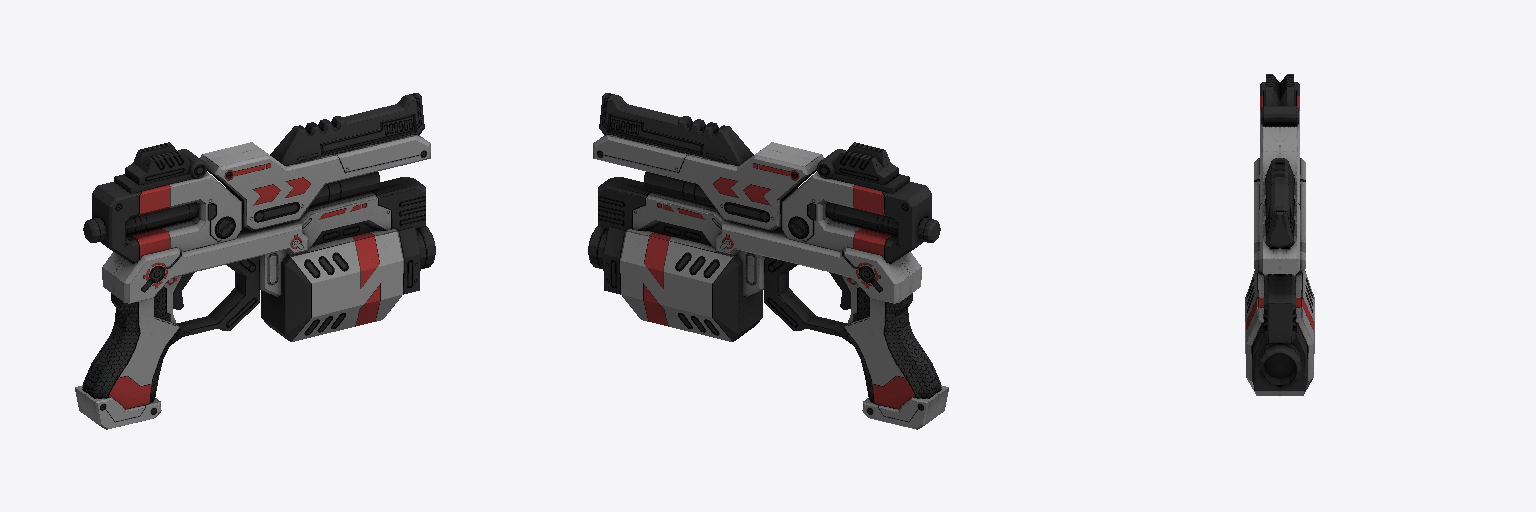
3 views of the same model, side by side, from view 1: azimuth 30°, elevation 25°; view 2: azimuth 150°, elevation 25°; view 3: azimuth 270°, elevation 25° (orthographic).
Parts seen in each view (by area): view 1: BaseMesh; view 2: BaseMesh; view 3: BaseMesh.
Boxes of the visible parts, <box> form: BaseMesh: <box>75,93,435,429</box>; BaseMesh: <box>588,93,948,429</box>; BaseMesh: <box>1245,74,1314,395</box>.
Bounding box in the file's own units: 6.81 × 4.86 × 1.21.
1 materials, 1 textured.